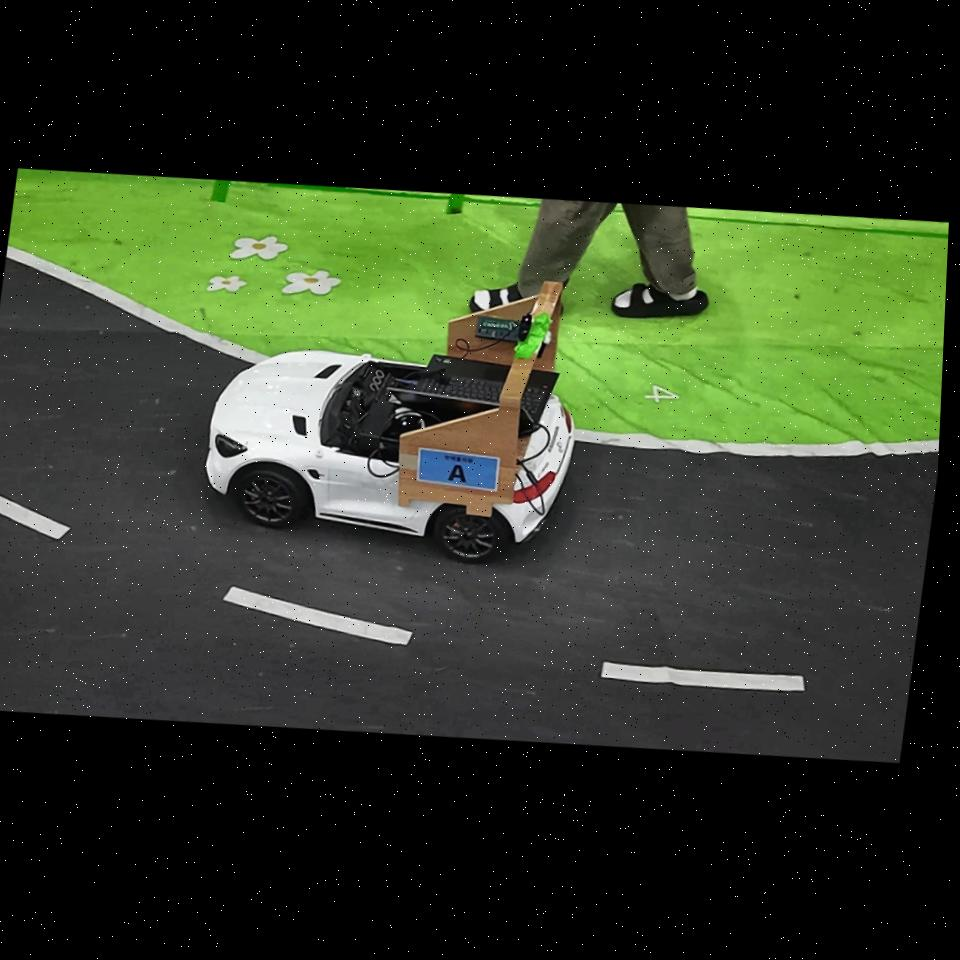broken_line: (224, 587, 412, 645), (601, 662, 805, 691), (0, 495, 70, 539)
